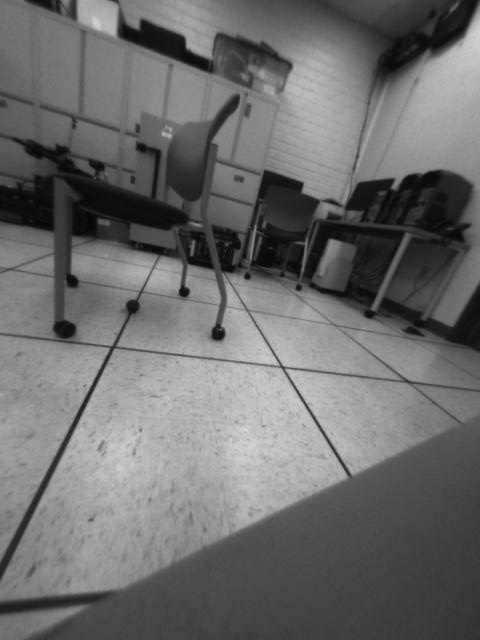dogtoy: (121, 293, 148, 317)
